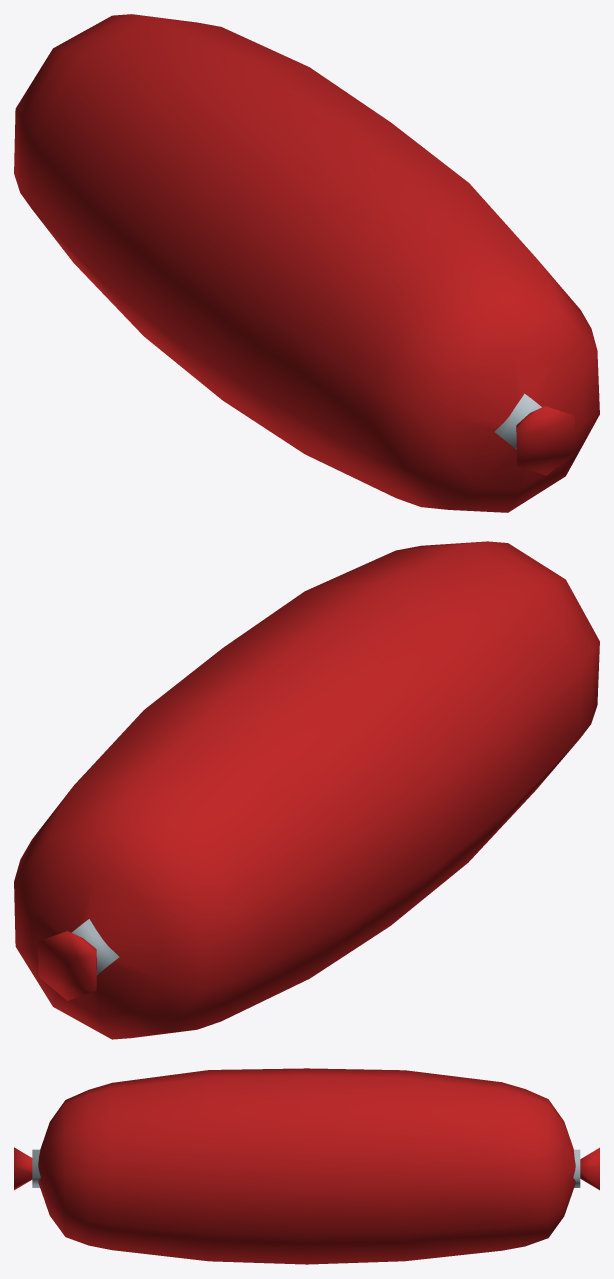
Rendered from sasuage_003.fbx.
3 renders of one model, top to bottom at view 1: azimuth 30°, elevation 25°; view 2: azimuth 150°, elevation 25°; view 3: azimuth 270°, elevation 25°, orthographic. The views are drawn at different scales.
Parts seen in each view (by area): view 1: sasuage_003; view 2: sasuage_003; view 3: sasuage_003.
Boxes of the visible parts, x1=… form: sasuage_003: x1=14, y1=14, x2=599, y2=512; sasuage_003: x1=14, y1=541, x2=599, y2=1039; sasuage_003: x1=14, y1=1068, x2=599, y2=1264.
Bounding box in the file's own units: 6.18 × 19.02 × 6.47.
